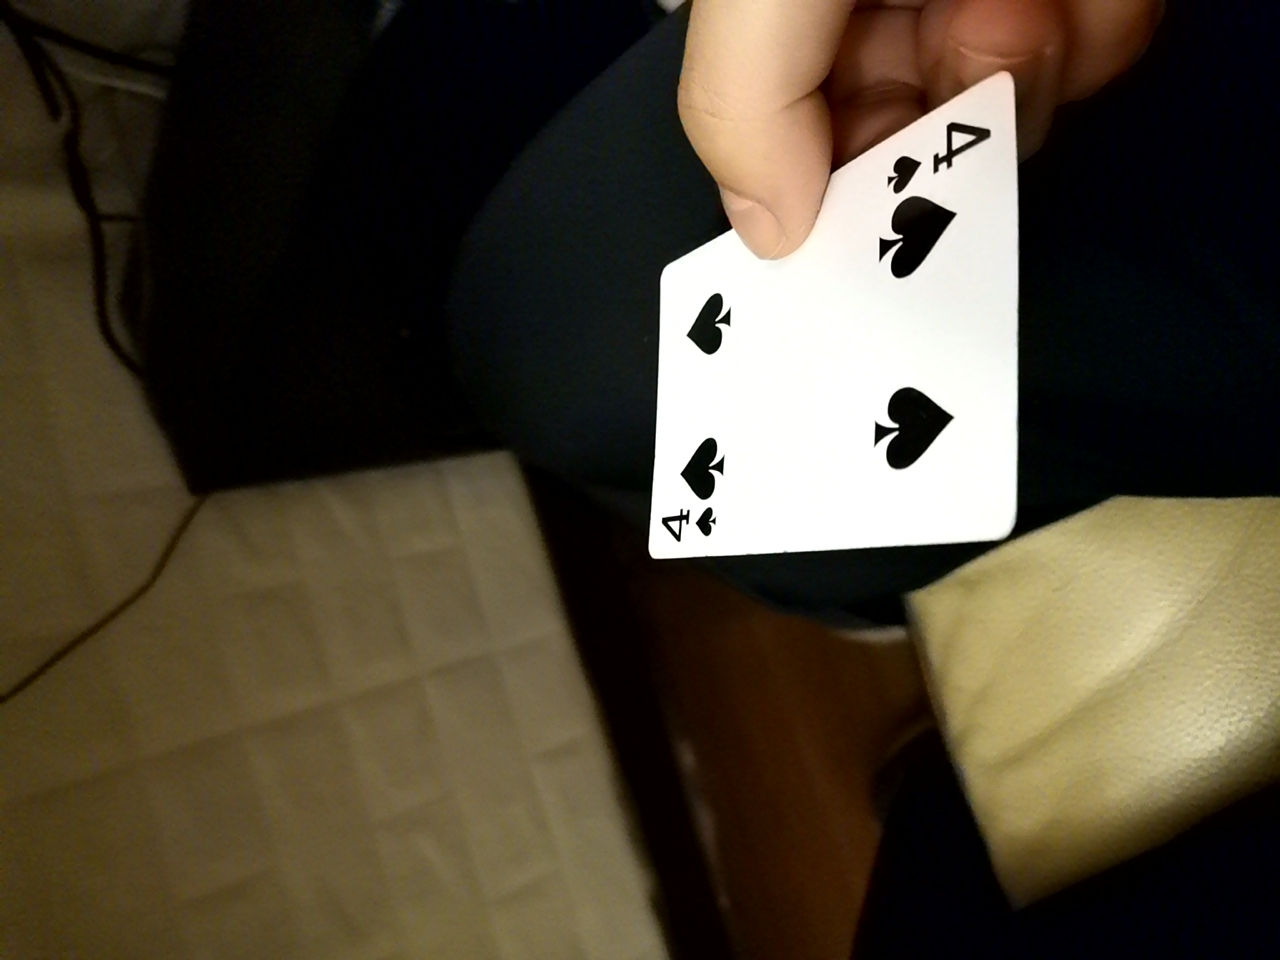ht 4: (645, 93, 1020, 577)
